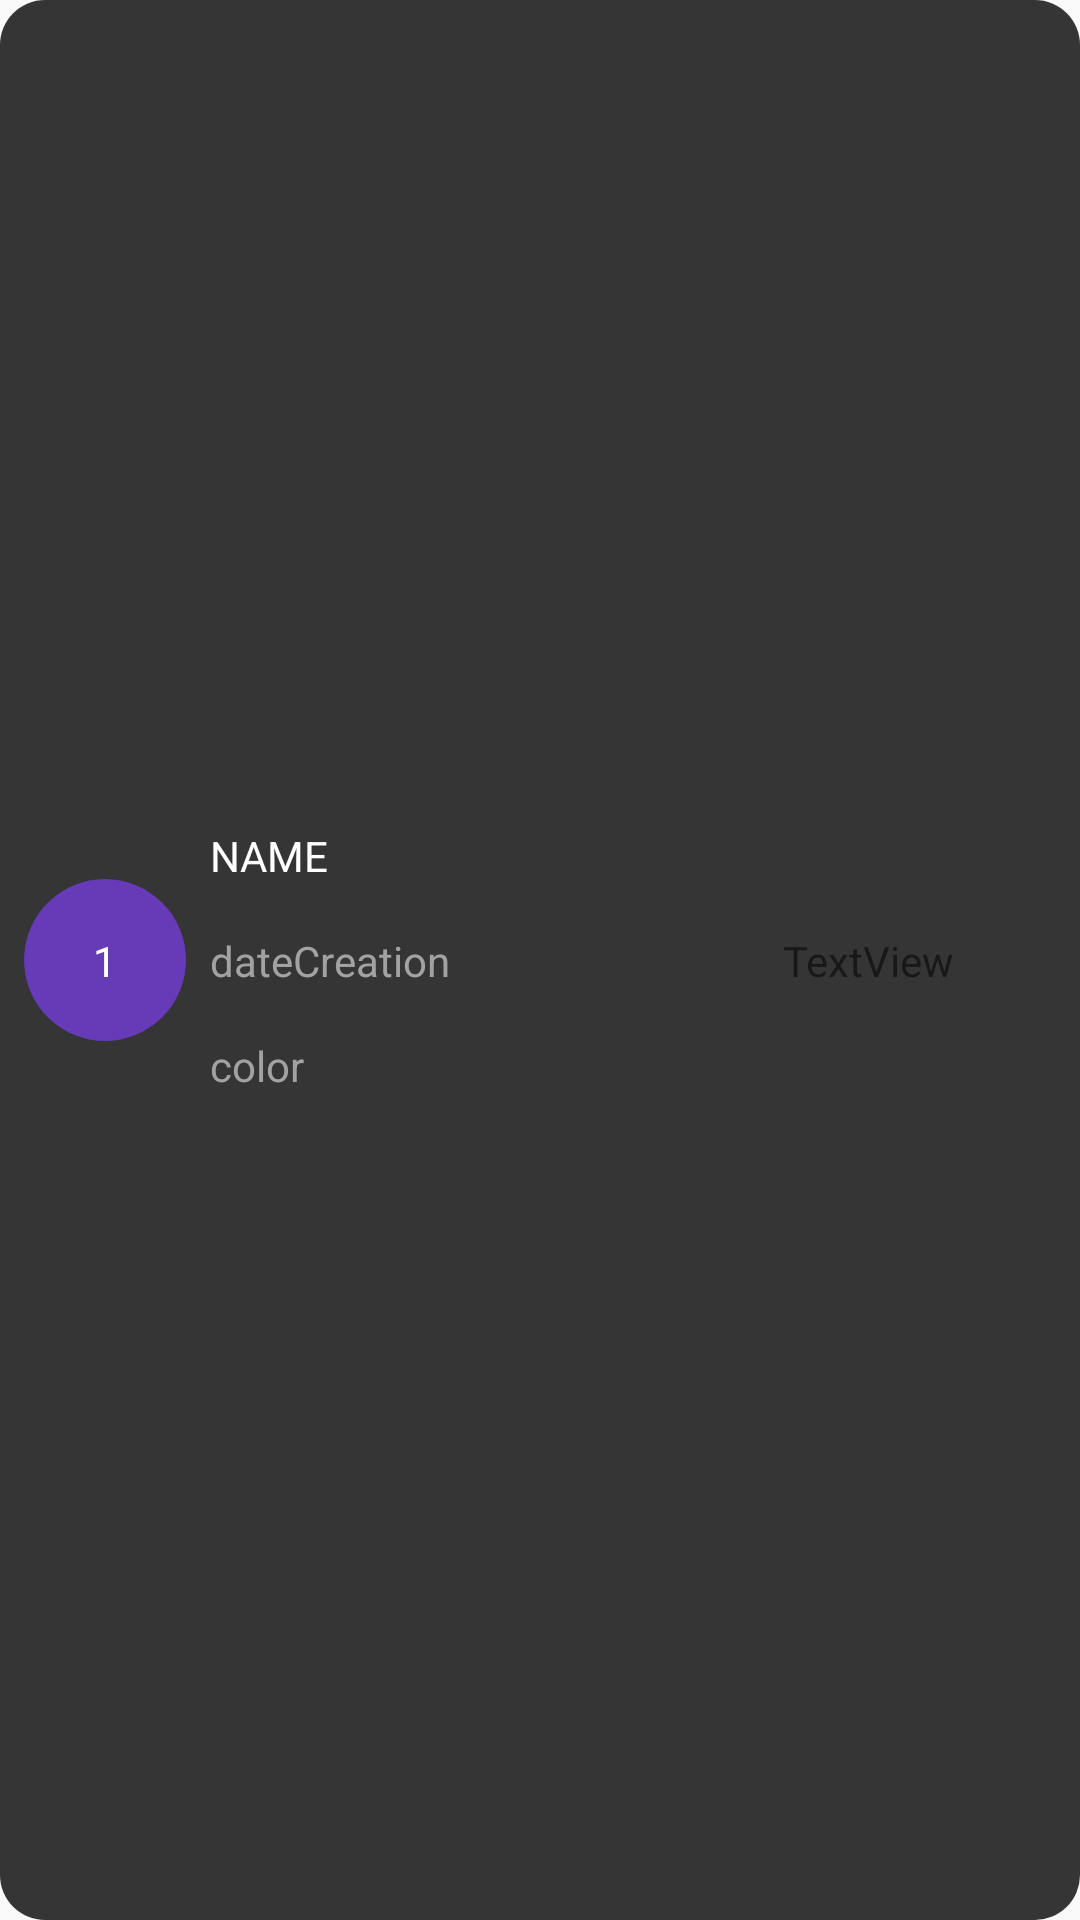

Where to tap for icons on this 1080px x 1920px app screen, as [x,y]:
circle: [105,960]
